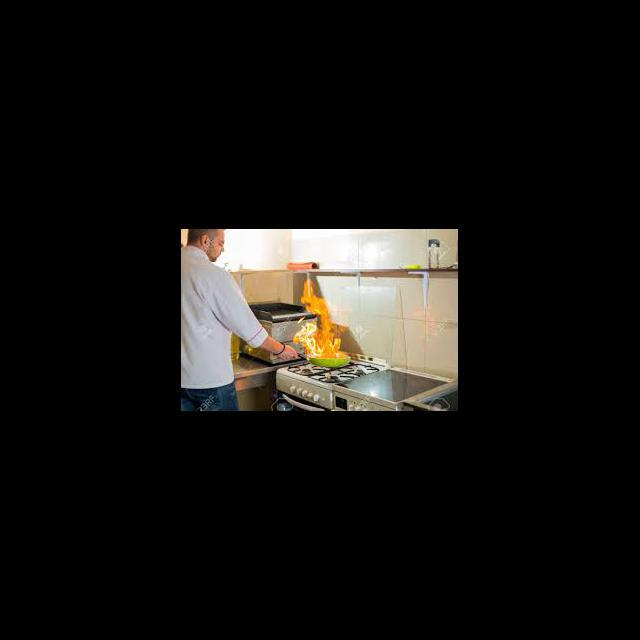Fire: (295, 275, 354, 368)
